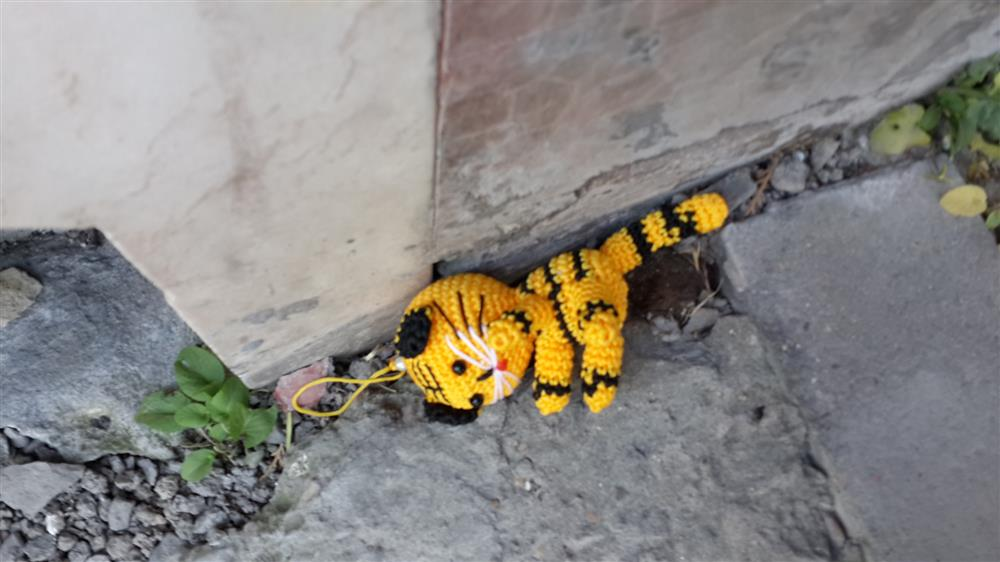toy_tiger: (396, 190, 726, 424)
